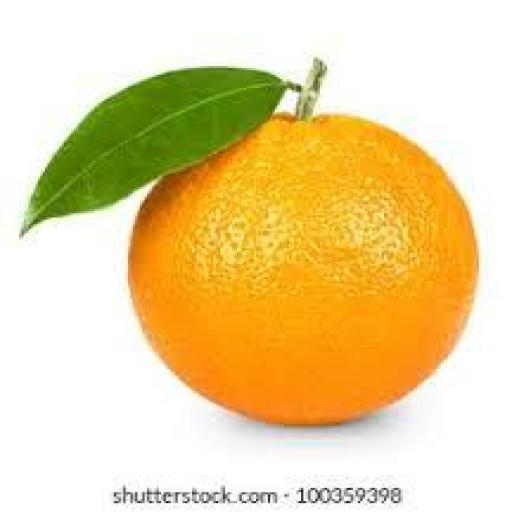orange: (131, 117, 476, 424)
